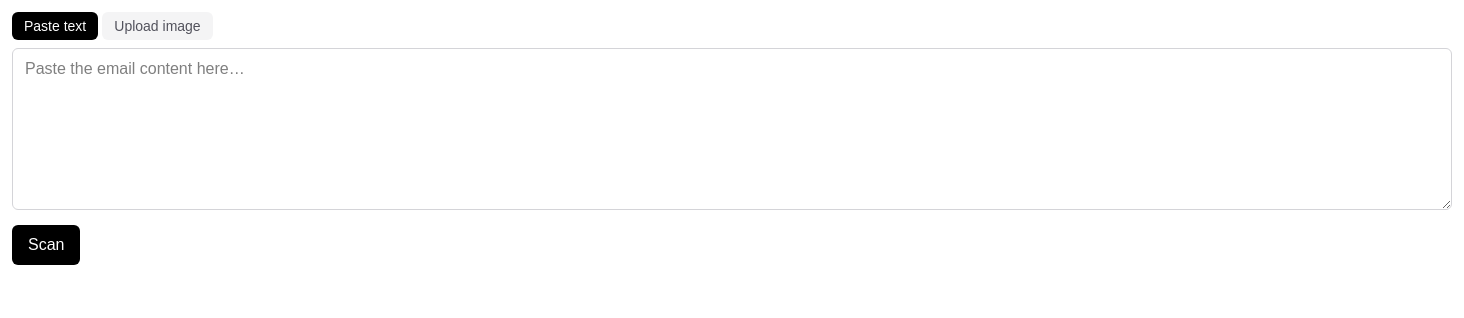
Test: MessageScanForm (email) › shows the backend error message when the scan fails
Type "test message" into the text box at (732, 129), box [12, 48, 1452, 210]
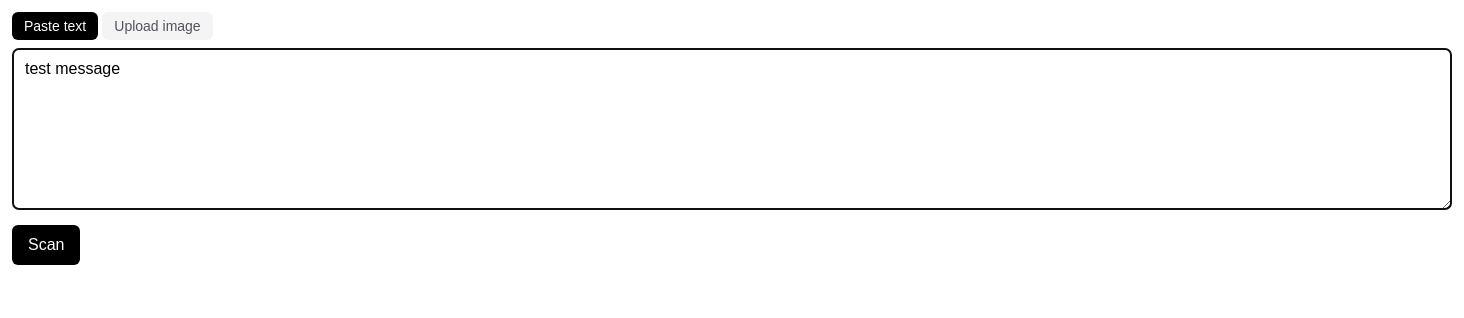
Click the button "Scan" at (46, 245), box [12, 225, 80, 265]
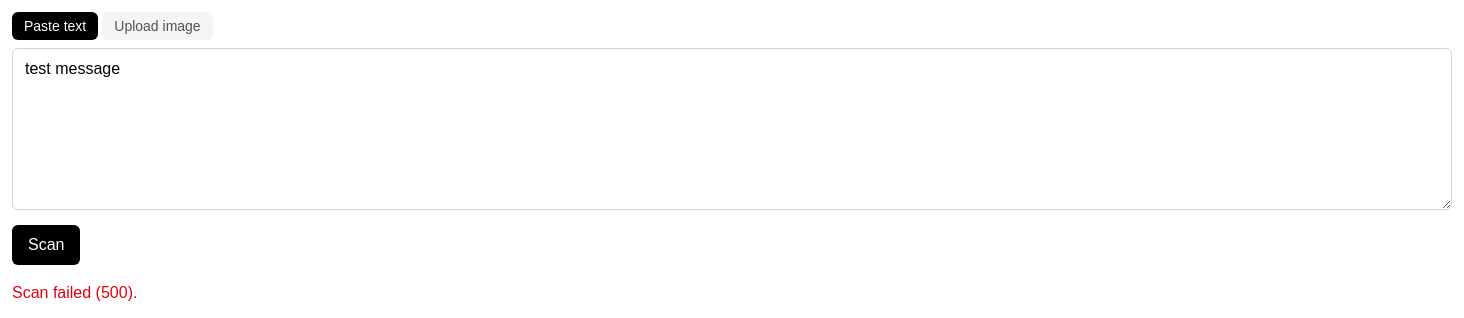
Expected: the text "Scan failed (500)." is shown, [12, 284, 137, 301]
